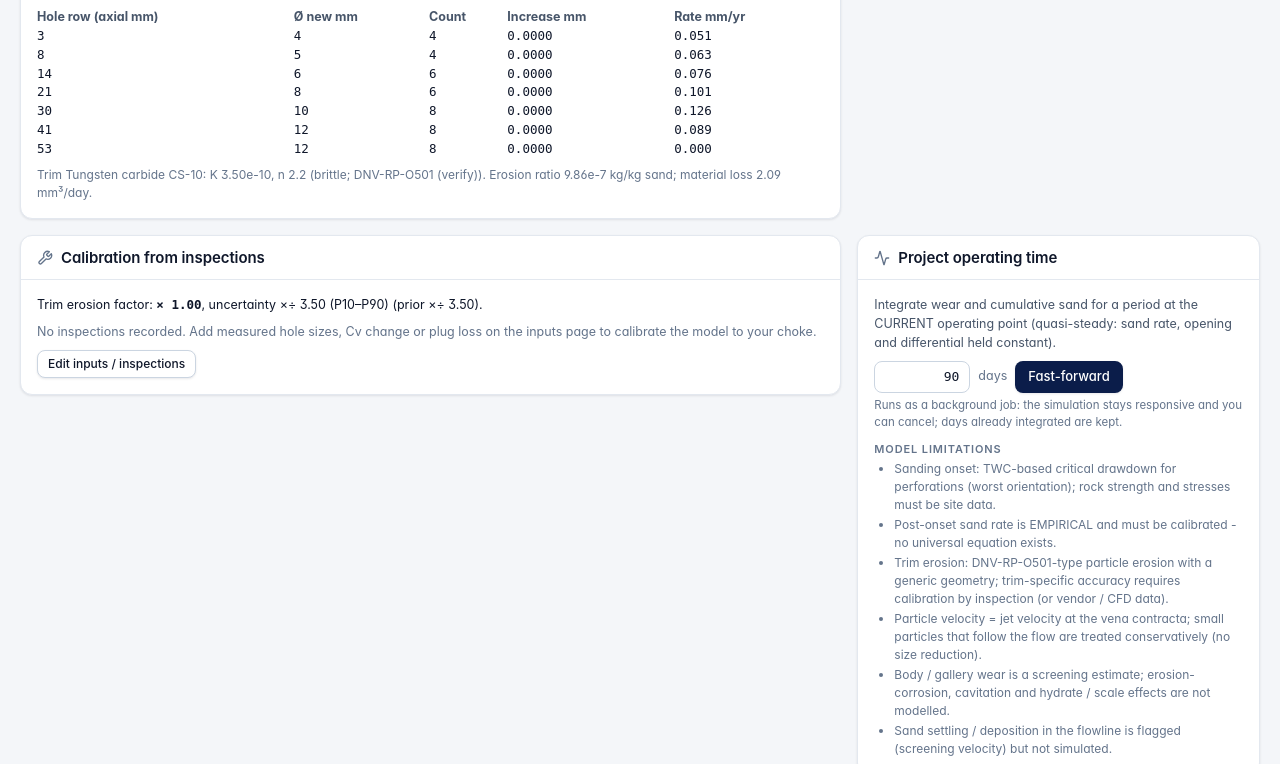
Test: Background job progress › shows why a job was rejected
This screenshot has width=1280, height=764.
(page scrolled)
Click the button with test id "fast-forward" at {"x": 1069, "y": 377}, box [1015,361,1123,393]
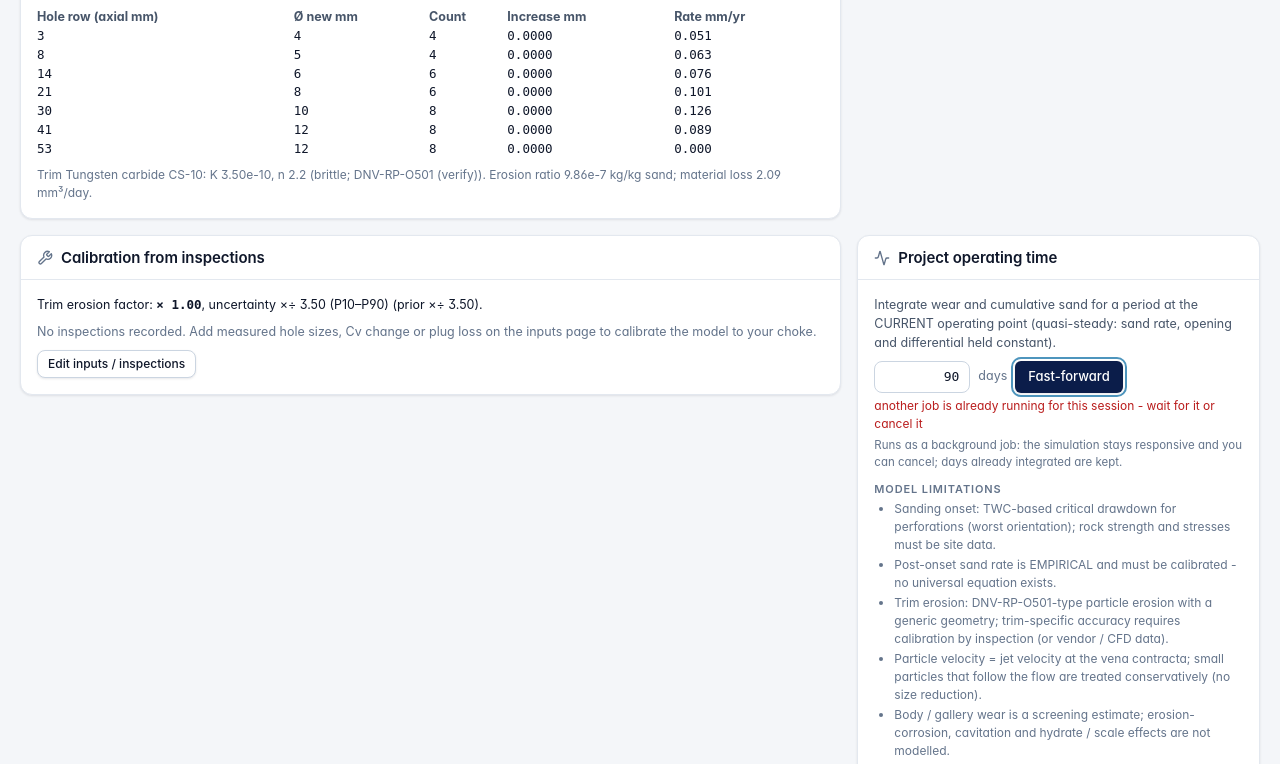
Result: the text with test id "job-error" shows "already running" at [874,398,1215,431]
